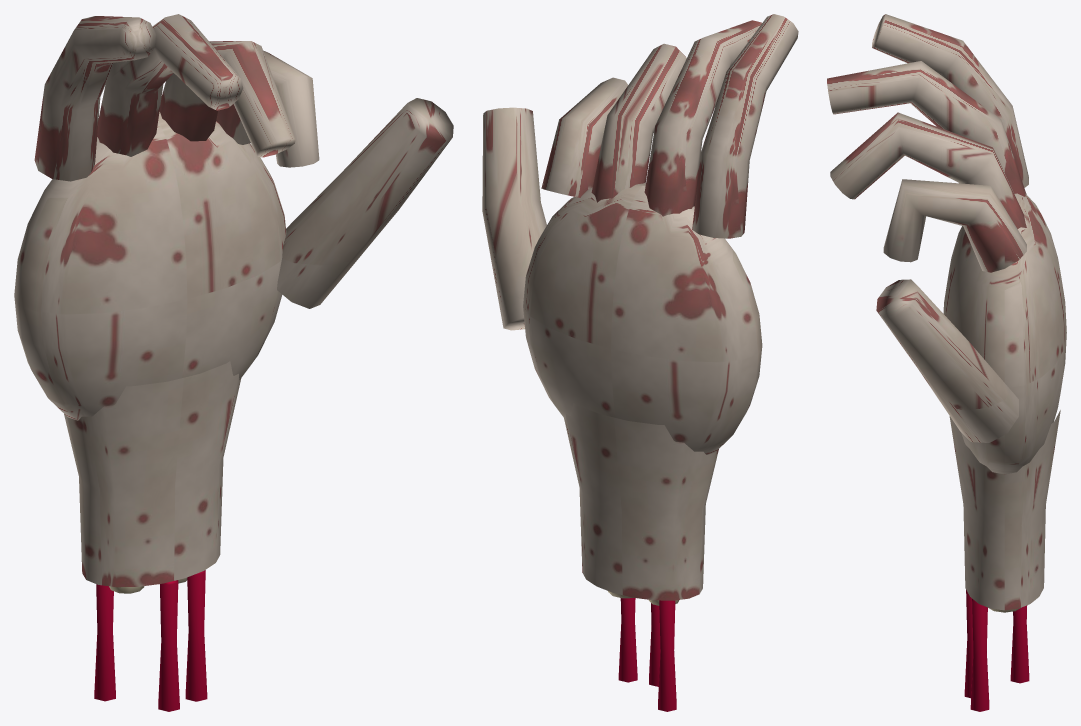
Rendered from 切断された手_hand.glb.
3 views of the same model, side by side, from view 1: azimuth 30°, elevation 25°; view 2: azimuth 150°, elevation 25°; view 3: azimuth 270°, elevation 25° (orthographic). The views are drawn at different scales.
Visible parts, largest first — view 1: hand; view 2: hand; view 3: hand.
Part boxes in pixels (x1=…): hand: x1=14, y1=14, x2=453, y2=711; hand: x1=482, y1=14, x2=798, y2=711; hand: x1=827, y1=14, x2=1066, y2=711.
Bounding box in the file's own units: 0.12 × 0.2307 × 0.0781.
4 materials, 3 textured.
